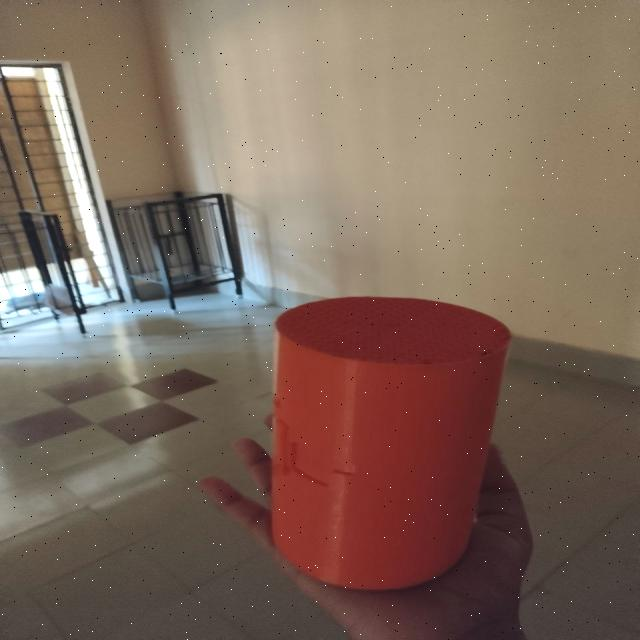Cylinder: (269, 295, 514, 591)
